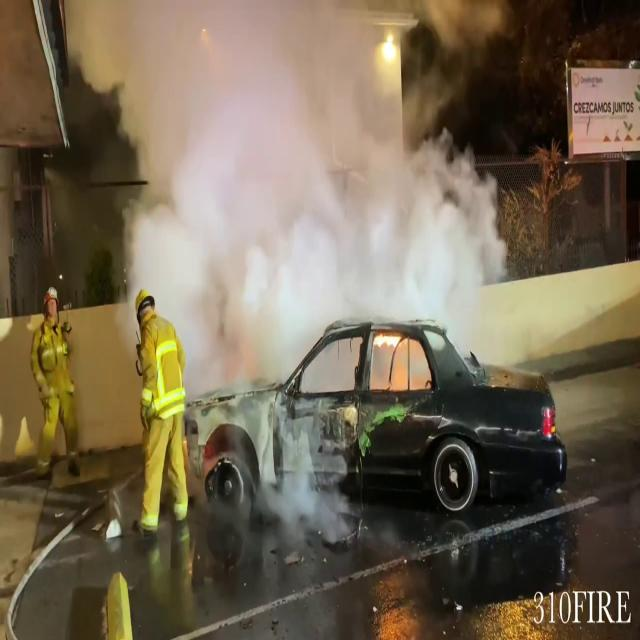Smoke: (70, 0, 514, 367)
